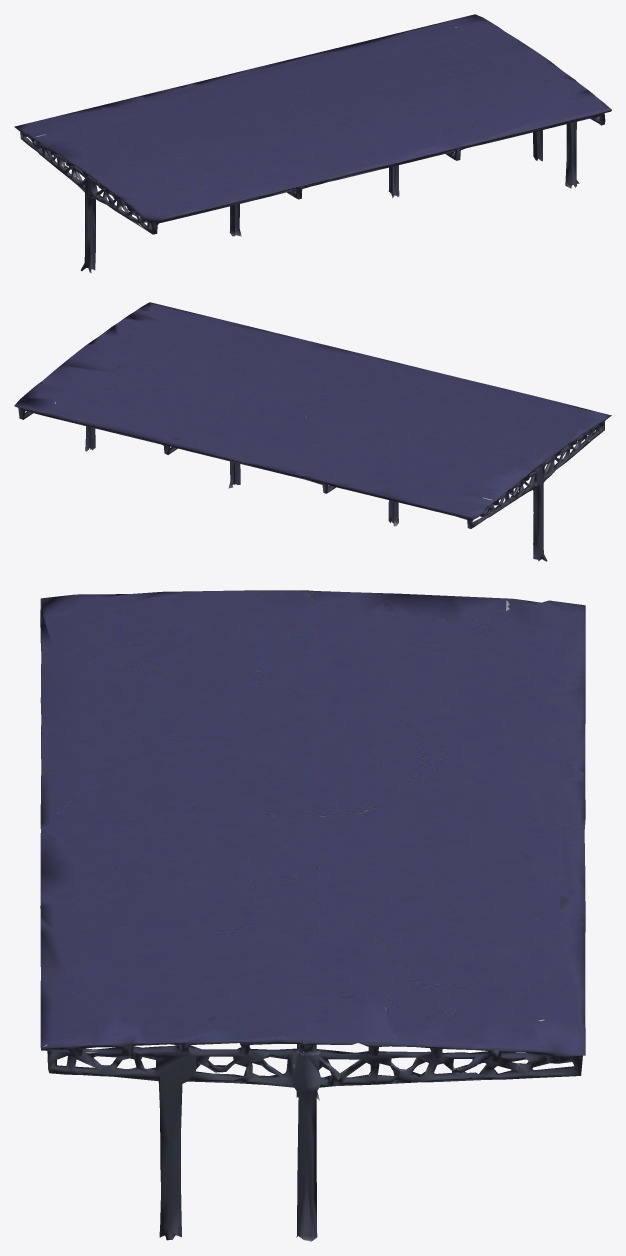
The model's file is canopy.glb.
3 views of the same model, one above another, from view 1: azimuth 30°, elevation 25°; view 2: azimuth 150°, elevation 25°; view 3: azimuth 270°, elevation 25° (orthographic). The views are drawn at different scales.
Bounding box in the file's own units: 1.91 × 0.4037 × 0.9698.
Materials: 1 (1 with a texture image).
